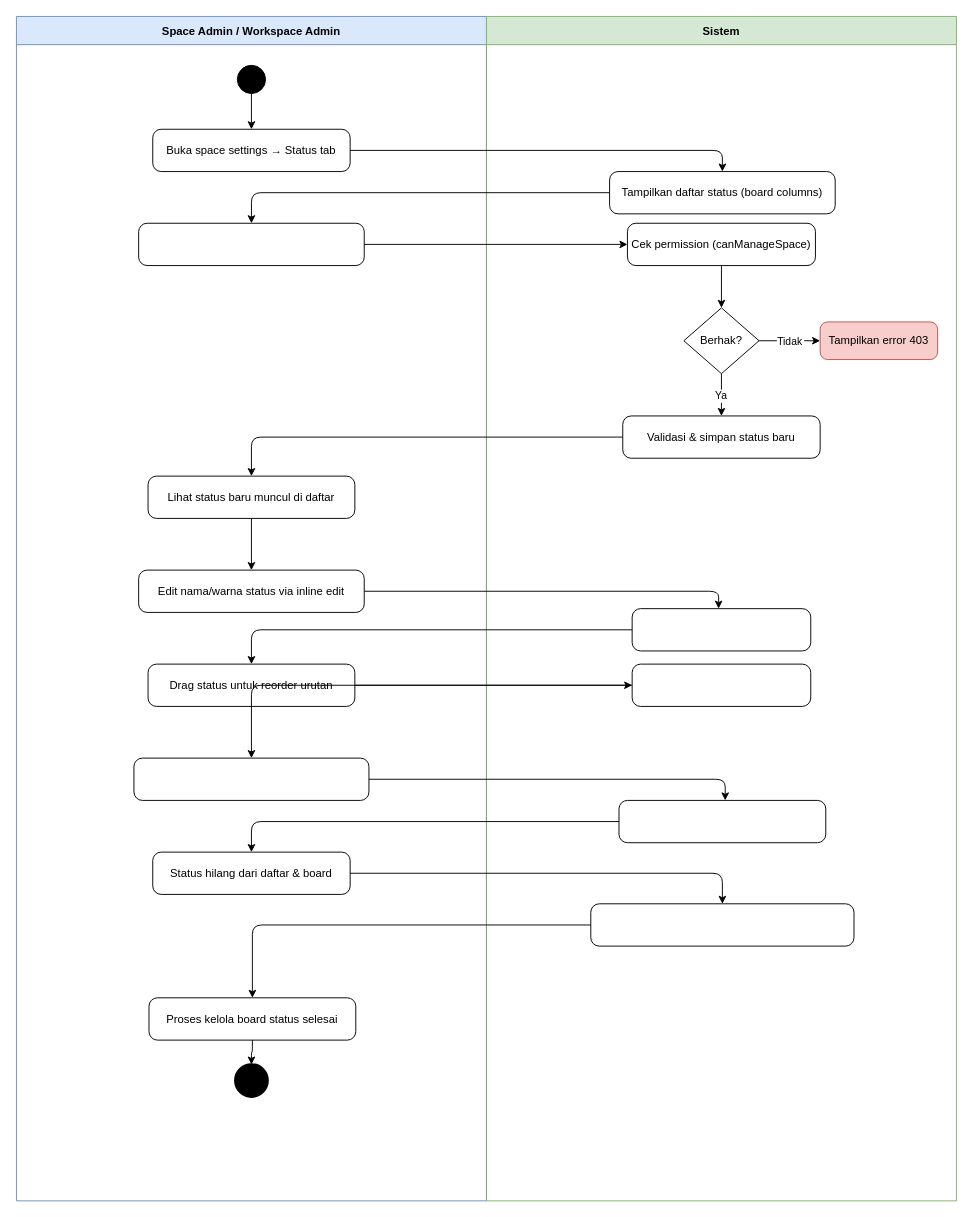
The diagram is 973 pixels wide and 1217 high, and some of its shapes have lost their labels. Here are the shapes that lost their labels. From the top down, the centre of each, then its label:
(x=251, y=244): Klik 'Add Status', isi nama & warna
(x=721, y=629): Validasi & update status
(x=721, y=684): Update posisi semua status
(x=251, y=778): Klik 'Delete' pada status, konfirmasi
(x=722, y=821): Hapus status & catat aktivitas
(x=722, y=924): Catat seluruh aktivitas (added, edited, reordered, deleted)
